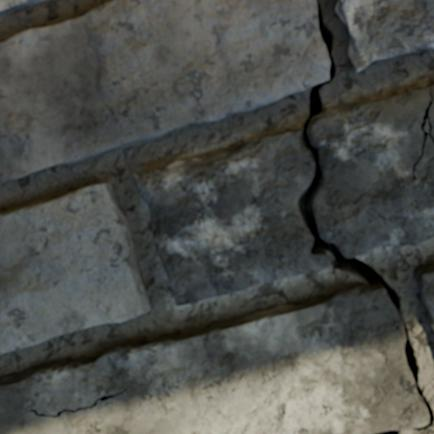brick: (0, 285, 428, 433), (0, 0, 329, 182), (0, 181, 149, 353), (335, 0, 433, 71), (414, 264, 433, 331), (0, 0, 47, 20)
broken_brick: (132, 128, 329, 306), (311, 89, 433, 256), (430, 105, 433, 134)
crack: (295, 2, 433, 431), (372, 83, 433, 180), (369, 429, 399, 433)
